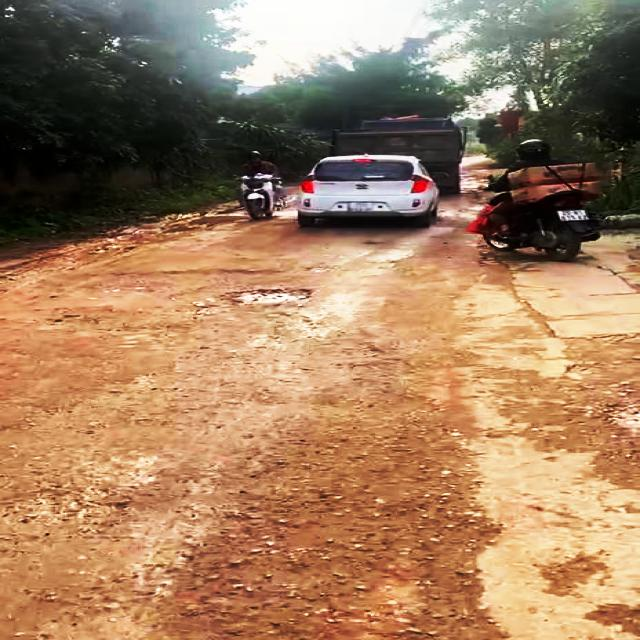pothole: (216, 284, 322, 310)
